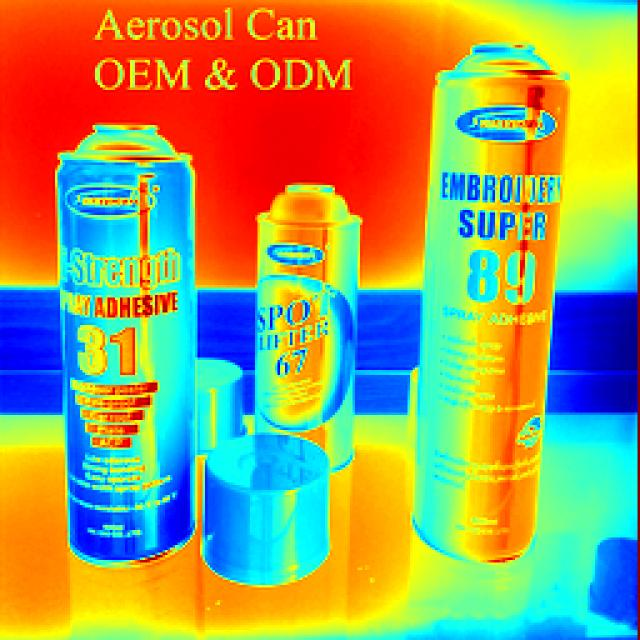Aerosol Cans: (435, 47, 573, 605), (47, 103, 193, 584), (240, 170, 386, 489)
